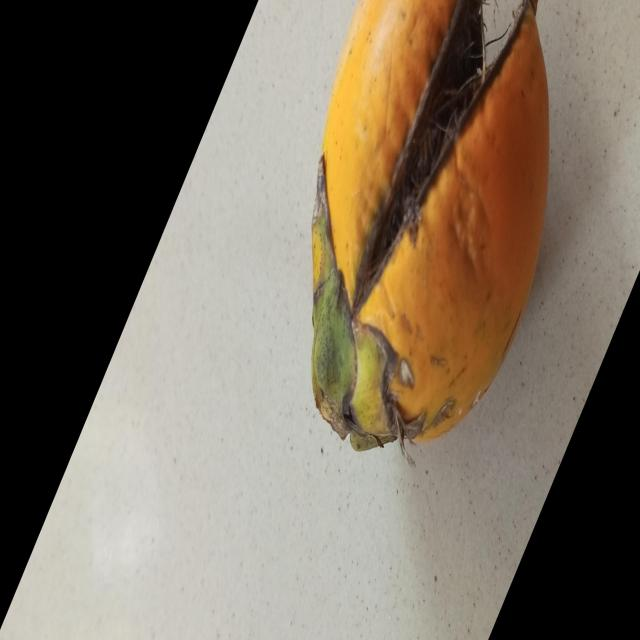damaged: (313, 0, 549, 451)
